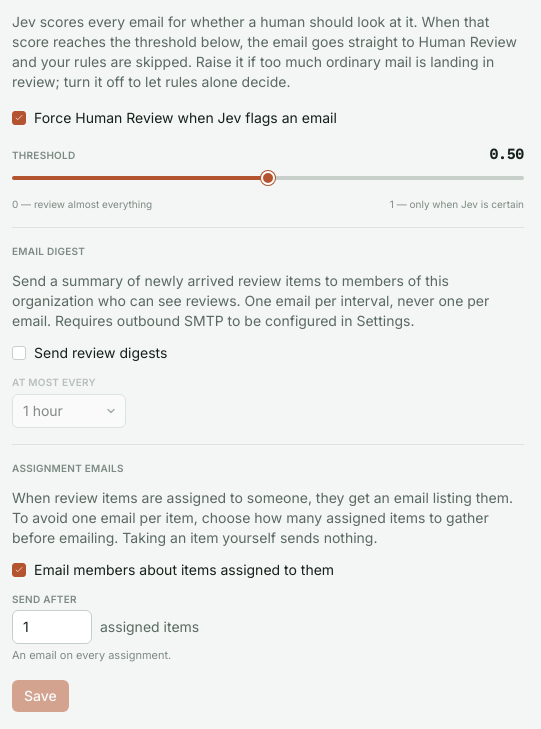
Test: ReviewPolicyPanel — assignment email threshold › refuses an out-of-range threshold
Replace the text in the number field with "0" at (52, 627), box top-left (12, 610), bottom-right (92, 644)
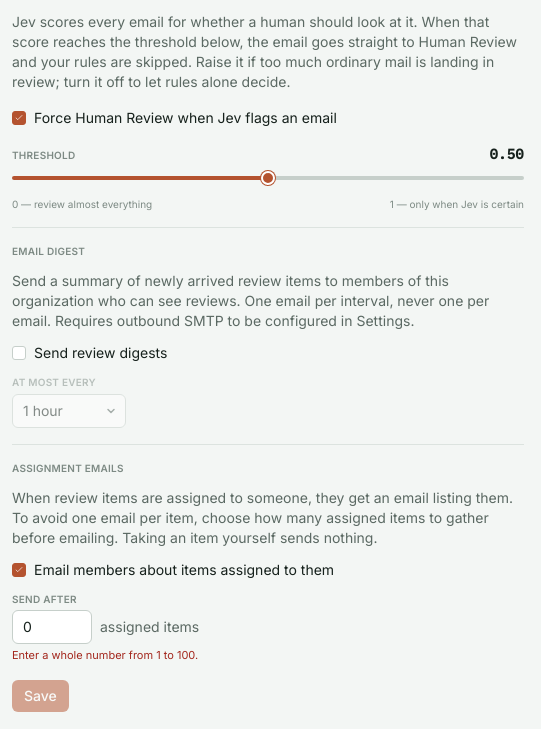
Expected: the button "Save" is disabled, top-left (12, 680), bottom-right (69, 712)
Now the message shows "1 to 100", box top-left (12, 648), bottom-right (198, 662)
